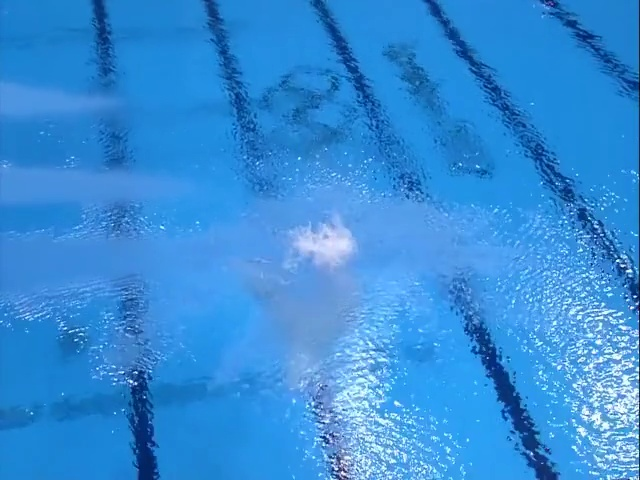splash: (293, 217, 359, 271)
